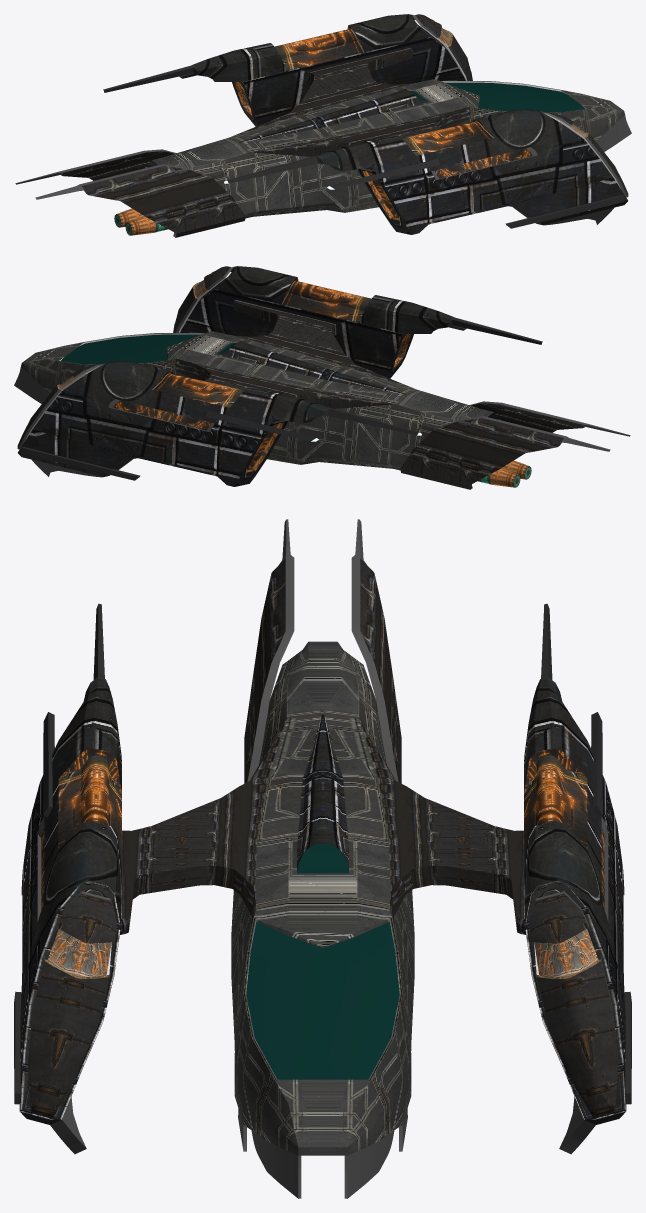
Rendered from gooper.glb.
3 renders of one model, top to bottom at view 1: azimuth 30°, elevation 25°; view 2: azimuth 150°, elevation 25°; view 3: azimuth 270°, elevation 25°, orthographic. The views are drawn at different scales.
Visible parts, largest first — view 1: oxotnik; view 2: oxotnik; view 3: oxotnik.
Boxes of the visible parts, x1,y1,x2,y2 form: oxotnik: (14, 14, 631, 237); oxotnik: (14, 266, 631, 489); oxotnik: (14, 518, 631, 1198).
Bounding box in the file's own units: 18.85 × 3.99 × 9.31.
9 materials, 4 textured.
